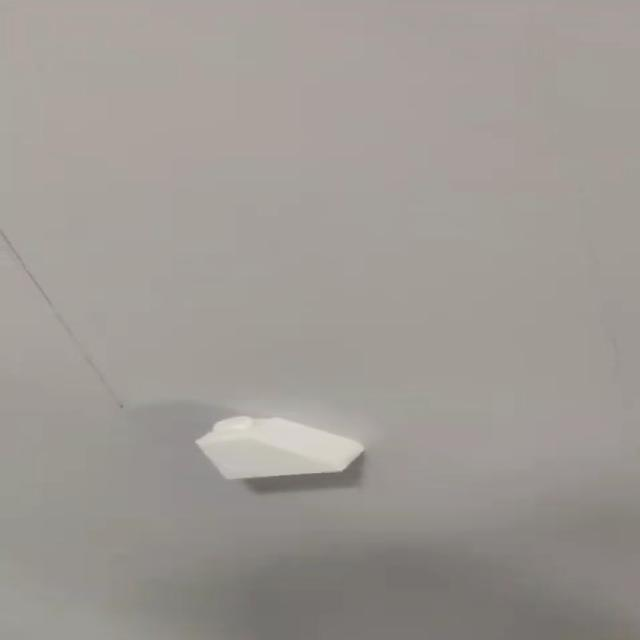P1x2x1: (190, 413, 372, 486)
